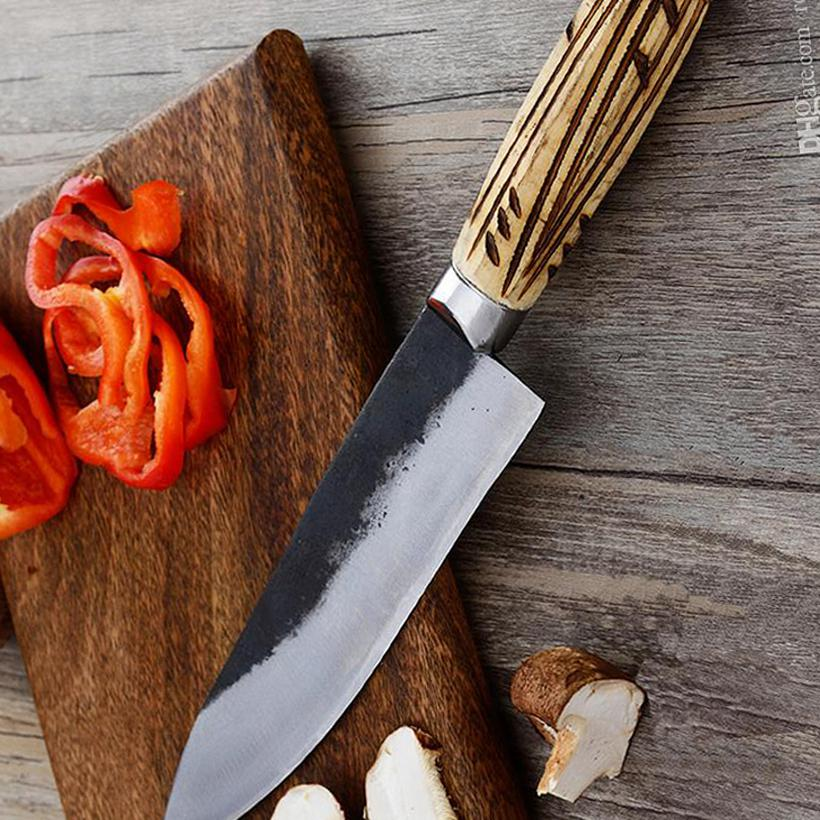knife: (169, 1, 710, 820)
